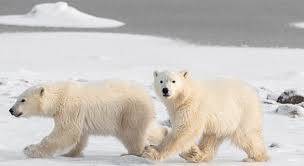PolarBear: (151, 65, 272, 165)
